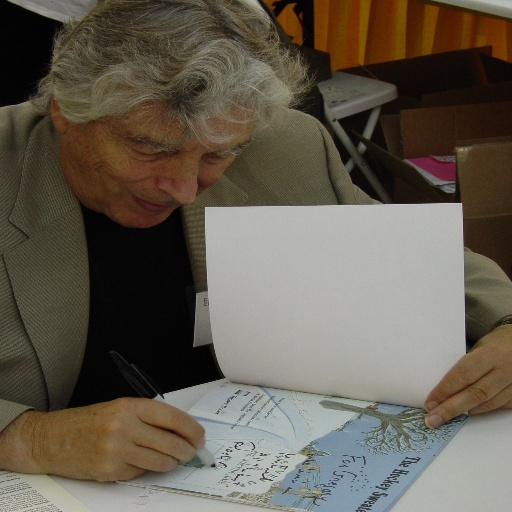hand: (35, 389, 229, 477), (423, 324, 511, 429)
